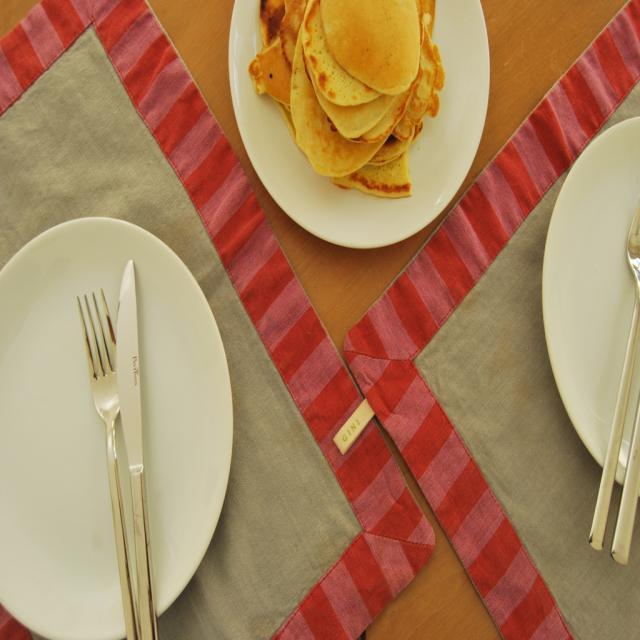Pancake: (249, 0, 445, 202)
